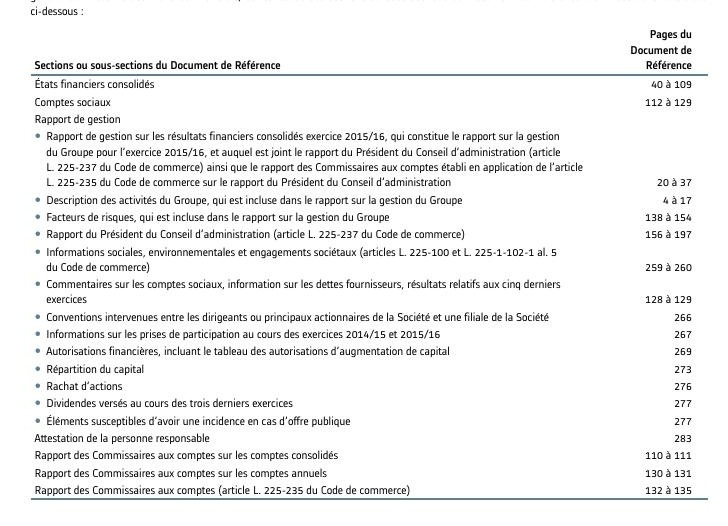table: (0, 0, 728, 526)
